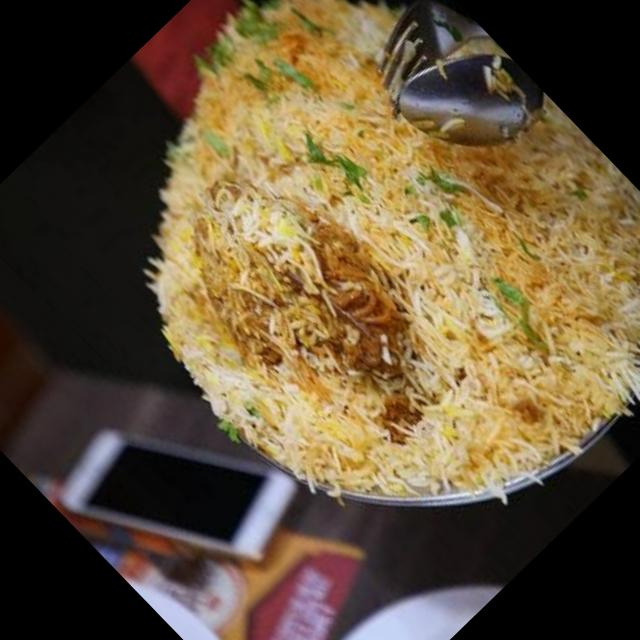Biryani: (9, 0, 640, 618)
